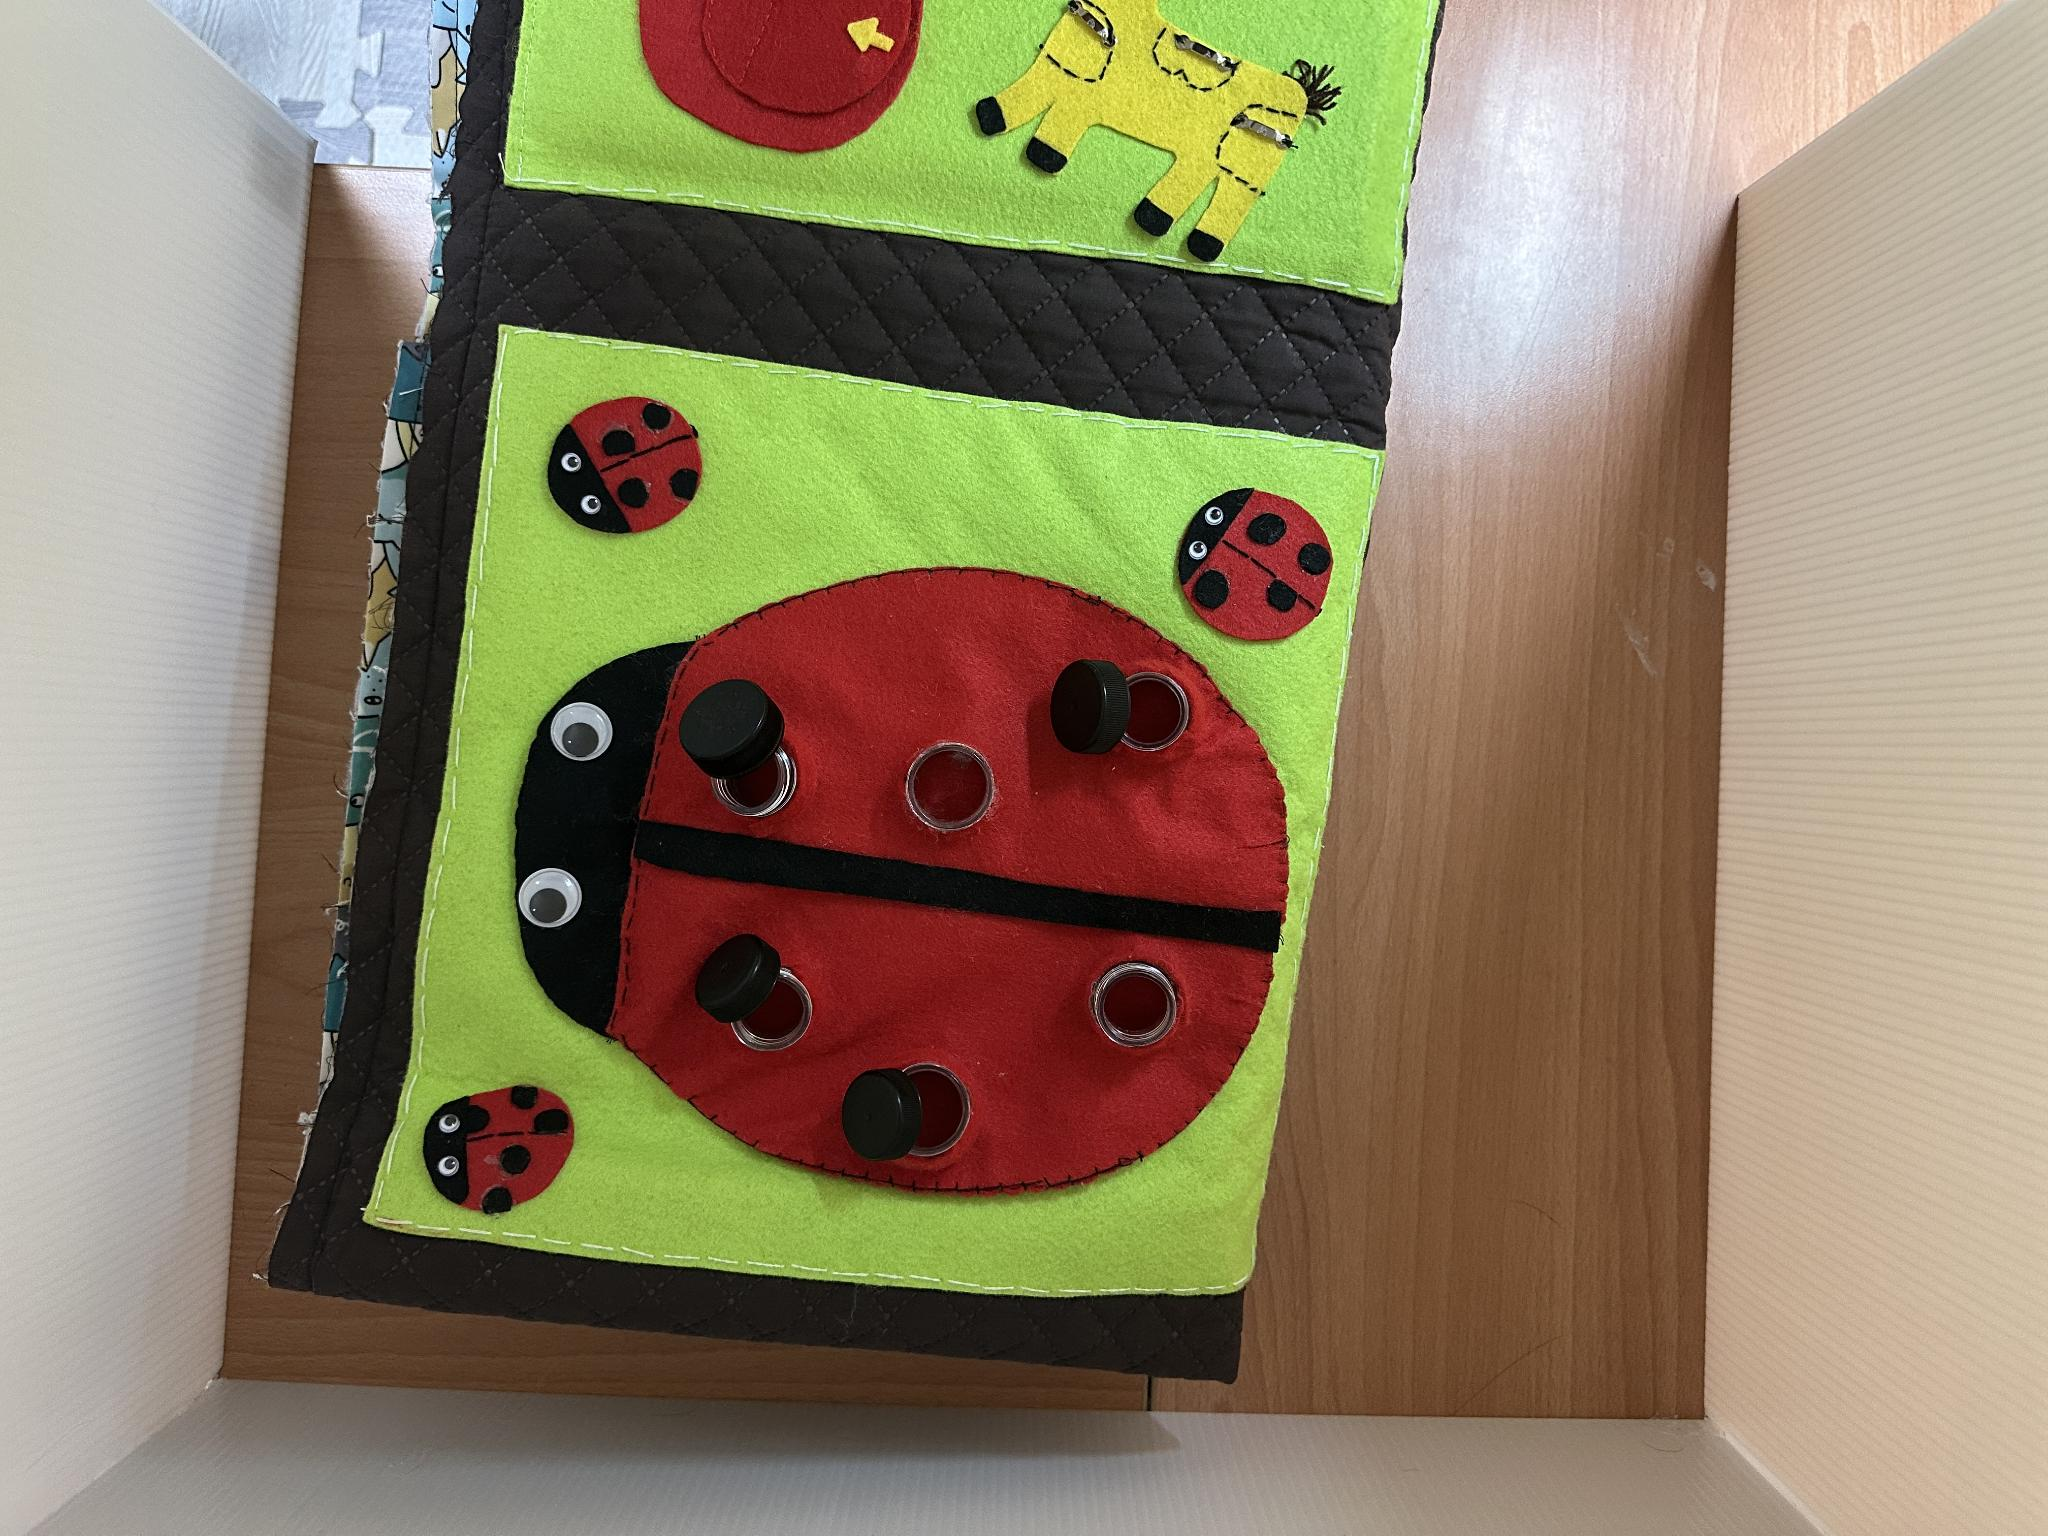cap_ng: (1029, 636, 1216, 776), (816, 1034, 997, 1176), (668, 925, 840, 1066), (668, 676, 819, 823)
